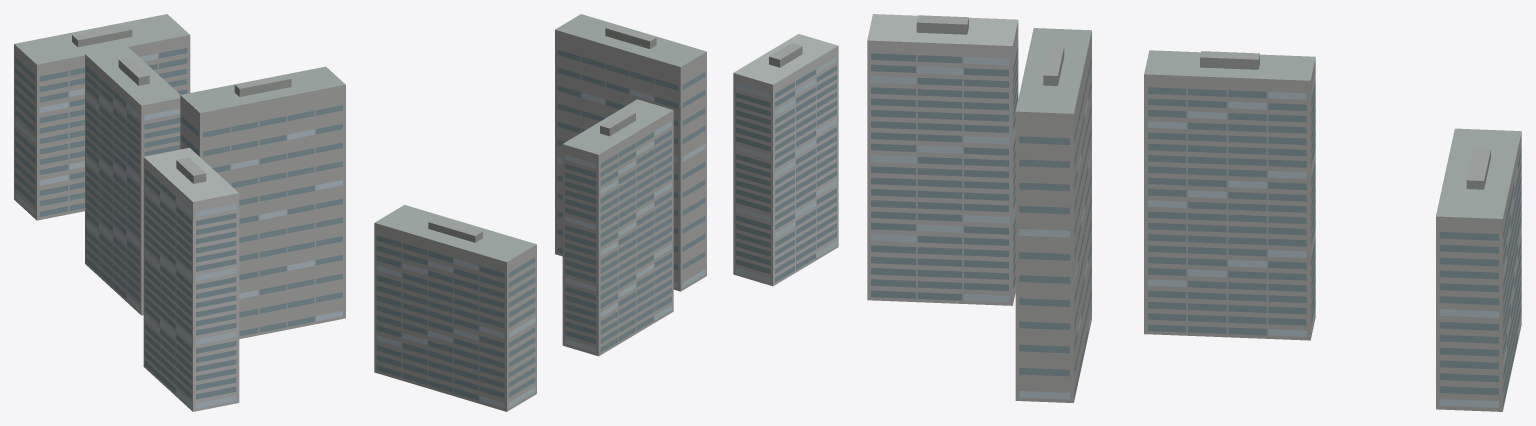
File: apt-a13006002.glb
3 renders of one model, left to right at view 1: azimuth 30°, elevation 25°; view 2: azimuth 150°, elevation 25°; view 3: azimuth 270°, elevation 25°, orthographic. The views are drawn at different scales.
Visible parts, largest first — view 1: apt-a13006002; view 2: apt-a13006002; view 3: apt-a13006002.
Part boxes in pixels (x1=…): apt-a13006002: x1=14, y1=14, x2=345, y2=411; apt-a13006002: x1=374, y1=14, x2=838, y2=411; apt-a13006002: x1=867, y1=14, x2=1521, y2=411.
Size of the model in its own units: 70.28 by 71 by 141.
